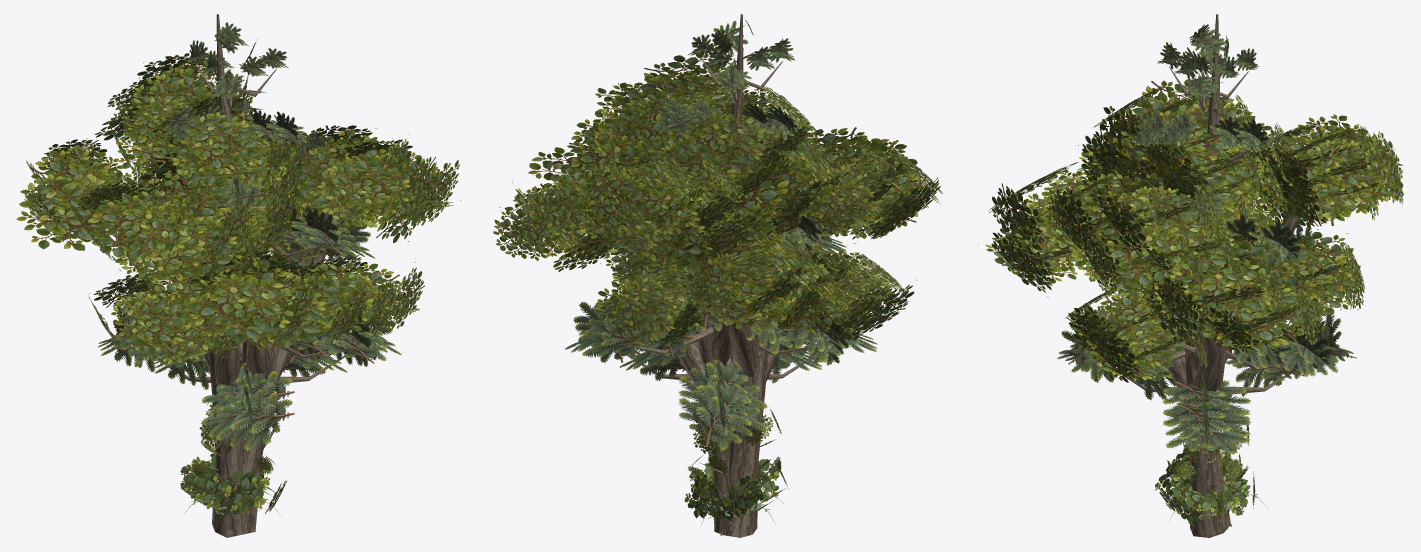
File: flora-low-r10.glb
The picture shows the model from 3 angles, left to right: view 1: azimuth 30°, elevation 25°; view 2: azimuth 150°, elevation 25°; view 3: azimuth 270°, elevation 25°; orthographic projection. The views are drawn at different scales.
Visible parts, largest first — view 1: alderTall_volumetric_leaf_clusters, alder_volumetric_leaf_clusters, pine_volumetric_leaf_clusters, alderTall_rooted_branch_skeleton, hazelShrub_botanical_foliage, pine_rooted_branch_skeleton, alder_rooted_branch_skeleton, alderSapling_botanical_foliage; view 2: alderTall_volumetric_leaf_clusters, alder_volumetric_leaf_clusters, pine_volumetric_leaf_clusters, alderTall_rooted_branch_skeleton, hazelShrub_botanical_foliage, pine_rooted_branch_skeleton, alder_rooted_branch_skeleton, alderSapling_botanical_foliage; view 3: alderTall_volumetric_leaf_clusters, alder_volumetric_leaf_clusters, pine_volumetric_leaf_clusters, alder_rooted_branch_skeleton, hazelShrub_botanical_foliage, pine_rooted_branch_skeleton, alderSapling_botanical_foliage, alderTall_rooted_branch_skeleton.
Boxes of the visible parts, left/top/right/bottom form: alderTall_volumetric_leaf_clusters: left=26, top=53, right=439, bottom=353; alder_volumetric_leaf_clusters: left=16, top=90, right=461, bottom=364; pine_volumetric_leaf_clusters: left=98, top=22, right=401, bottom=450; alderTall_rooted_branch_skeleton: left=96, top=131, right=359, bottom=537; hazelShrub_botanical_foliage: left=180, top=453, right=287, bottom=516; pine_rooted_branch_skeleton: left=158, top=14, right=345, bottom=534; alder_rooted_branch_skeleton: left=169, top=159, right=343, bottom=534; alderSapling_botanical_foliage: left=191, top=403, right=275, bottom=478; alderTall_volumetric_leaf_clusters: left=527, top=54, right=942, bottom=340; alder_volumetric_leaf_clusters: left=493, top=82, right=928, bottom=348; pine_volumetric_leaf_clusters: left=565, top=19, right=877, bottom=452; alderTall_rooted_branch_skeleton: left=620, top=102, right=858, bottom=537; hazelShrub_botanical_foliage: left=684, top=459, right=788, bottom=521; pine_rooted_branch_skeleton: left=627, top=14, right=833, bottom=535; alder_rooted_branch_skeleton: left=579, top=135, right=799, bottom=535; alderSapling_botanical_foliage: left=688, top=409, right=781, bottom=479; alderTall_volumetric_leaf_clusters: left=989, top=79, right=1403, bottom=354; alder_volumetric_leaf_clusters: left=978, top=121, right=1403, bottom=382; pine_volumetric_leaf_clusters: left=1057, top=24, right=1356, bottom=461; alder_rooted_branch_skeleton: left=1148, top=159, right=1309, bottom=537; hazelShrub_botanical_foliage: left=1155, top=446, right=1255, bottom=527; pine_rooted_branch_skeleton: left=1125, top=14, right=1303, bottom=537; alderSapling_botanical_foliage: left=1173, top=403, right=1249, bottom=485; alderTall_rooted_branch_skeleton: left=1135, top=107, right=1331, bottom=532.
Bounding box in the file's own units: 7.1 × 9.21 × 7.05.
4 materials, 3 textured.
